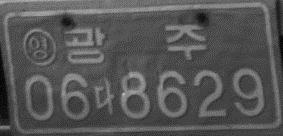0: (23, 73, 54, 121)
2: (192, 69, 227, 117)
6: (155, 69, 188, 118), (60, 71, 91, 121)
8: (118, 70, 150, 120)
9: (231, 66, 265, 116)
광주_D: (63, 23, 207, 64)
다: (92, 76, 116, 115)
영: (22, 27, 58, 67)
